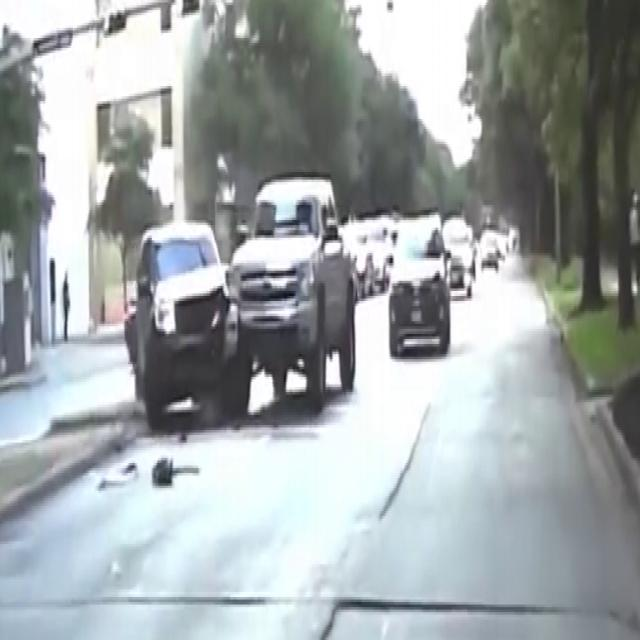accident: (150, 214, 335, 426)
